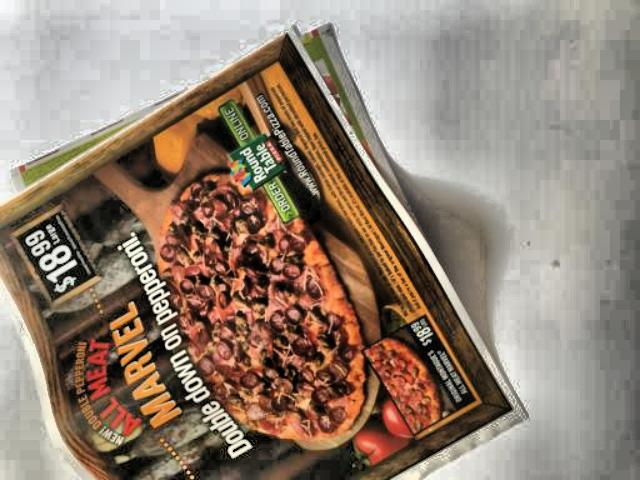Paper: (0, 17, 525, 480)
